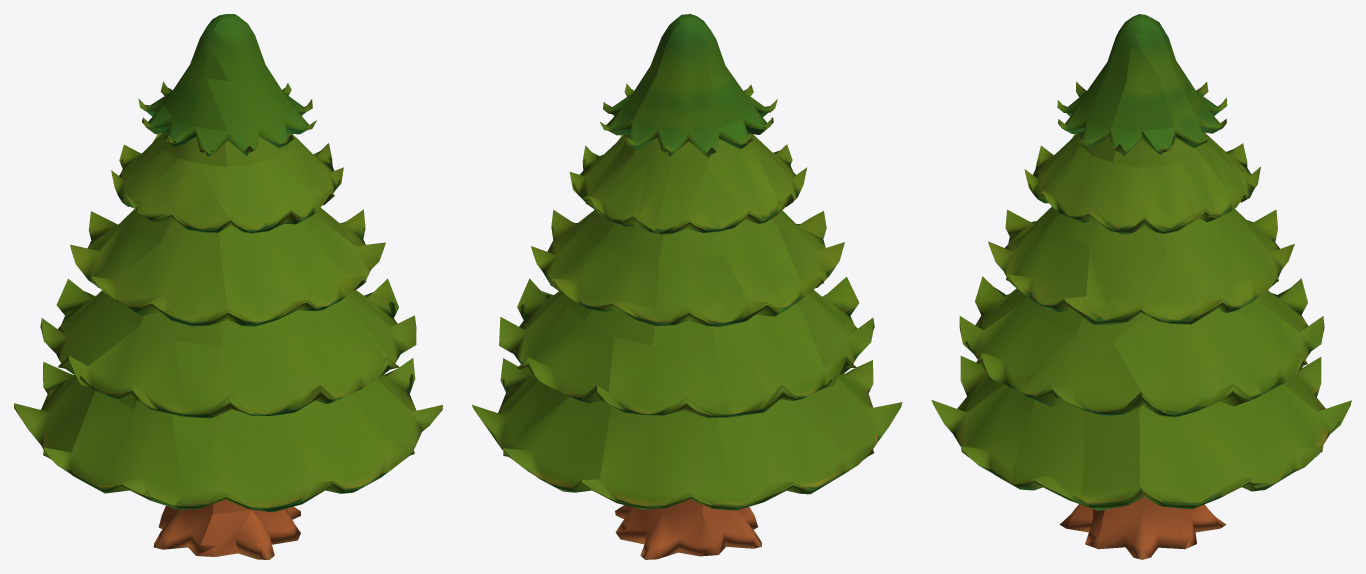
File: pinetree.glb
3 views of the same model, side by side, from view 1: azimuth 30°, elevation 25°; view 2: azimuth 150°, elevation 25°; view 3: azimuth 270°, elevation 25° (orthographic).
Parts seen in each view (by area): view 1: mesh_node; view 2: mesh_node; view 3: mesh_node.
Boxes of the visible parts, x1,y1,x2,y2 form: mesh_node: (14, 14, 442, 559); mesh_node: (472, 14, 902, 559); mesh_node: (931, 14, 1351, 559).
Size of the model in its own units: 0.7539 by 1 by 0.752.
1 material, 1 textured.
